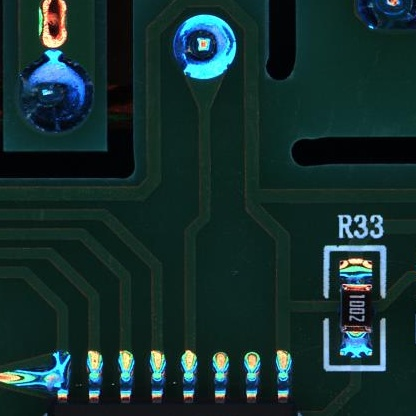spot: (17, 55, 93, 130), (173, 14, 236, 79)
